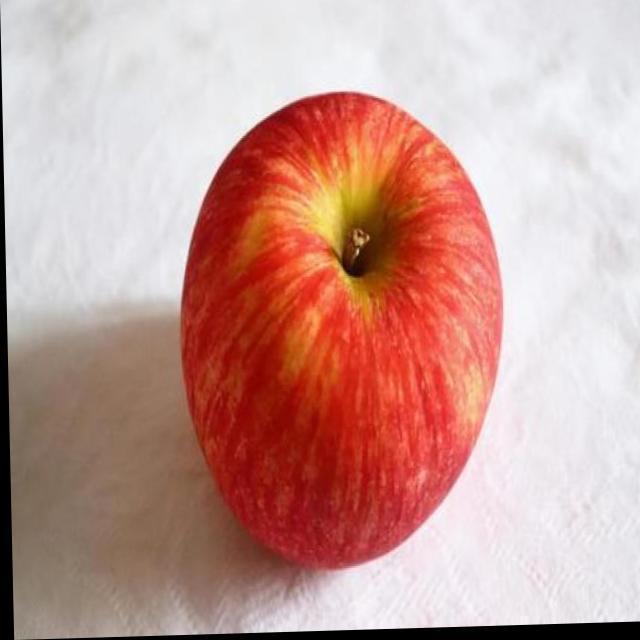apple: (178, 89, 504, 571)
